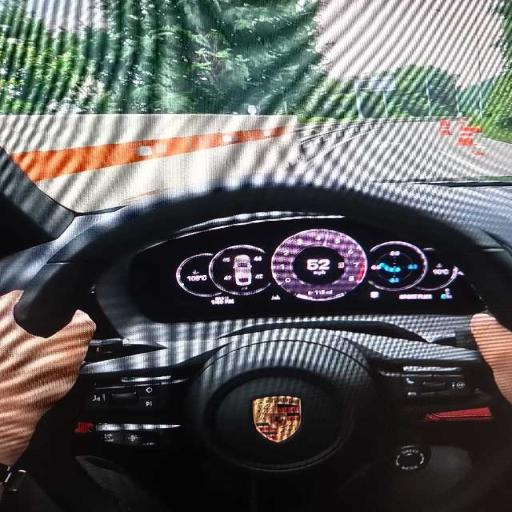person: (0, 292, 95, 466)
